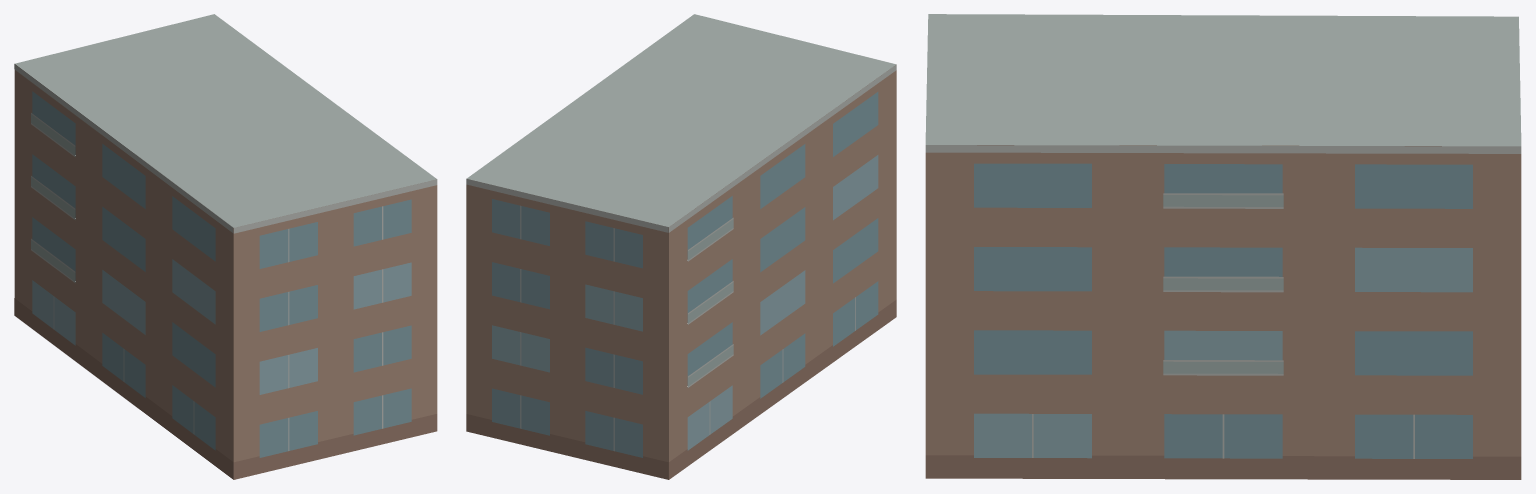
Rendered from survey-upis-32675875.glb.
3 views of the same model, side by side, from view 1: azimuth 30°, elevation 25°; view 2: azimuth 150°, elevation 25°; view 3: azimuth 270°, elevation 25° (orthographic). The views are drawn at different scales.
Parts seen in each view (by area): view 1: survey-upis-32675875.tmp; view 2: survey-upis-32675875.tmp; view 3: survey-upis-32675875.tmp.
Part boxes in pixels (<box>): survey-upis-32675875.tmp: <box>14,14,437,479</box>; survey-upis-32675875.tmp: <box>466,14,896,479</box>; survey-upis-32675875.tmp: <box>925,14,1521,479</box>.
Bounding box in the file's own units: 9.07 × 10.65 × 17.25.
